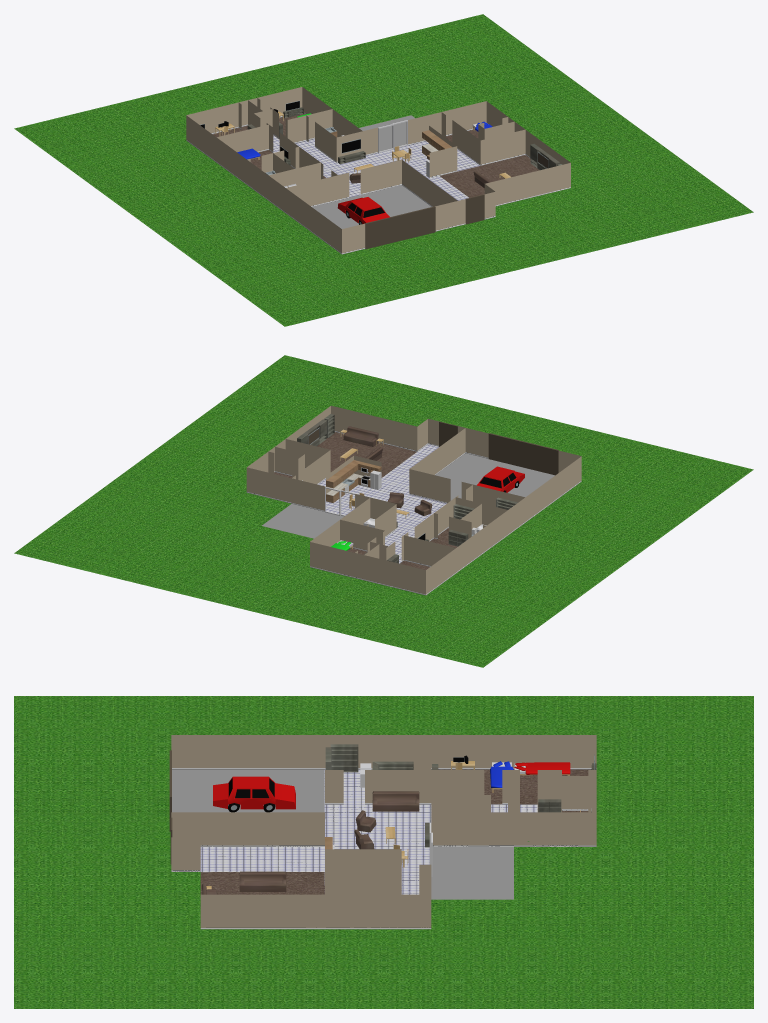
Rendered from gameMap.fbx.
3 renders of one model, top to bottom at view 1: azimuth 30°, elevation 25°; view 2: azimuth 150°, elevation 25°; view 3: azimuth 270°, elevation 25°, orthographic. The views are drawn at different scales.
Visible parts, largest first — view 1: grass, HouseMap1, Door, car, Door1; view 2: grass, HouseMap1, Door, car, cabinets, Cabinets; view 3: grass, HouseMap1, car, Couch2, Couch1, bookshelf1.
Part boxes in pixels (left/top/right/bottom): grass: left=14, top=14, right=753, bottom=326; HouseMap1: left=186, top=87, right=570, bottom=254; Door: left=365, top=206, right=435, bottom=249; car: left=337, top=197, right=389, bottom=223; Door1: left=465, top=194, right=484, bottom=224; grass: left=14, top=355, right=753, bottom=667; HouseMap1: left=246, top=405, right=581, bottom=595; Door: left=488, top=433, right=558, bottom=475; car: left=477, top=466, right=524, bottom=492; cabinets: left=326, top=460, right=381, bottom=487; Cabinets: left=326, top=473, right=370, bottom=502; grass: left=14, top=696, right=753, bottom=1008; HouseMap1: left=171, top=735, right=596, bottom=929; car: left=213, top=776, right=295, bottom=809; Couch2: left=372, top=791, right=419, bottom=811; Couch1: left=239, top=871, right=286, bottom=891; bookshelf1: left=330, top=744, right=358, bottom=772.
Bounding box in the file's own units: 12522 × 703 × 12522.
Materials: 1 (1 with a texture image).
